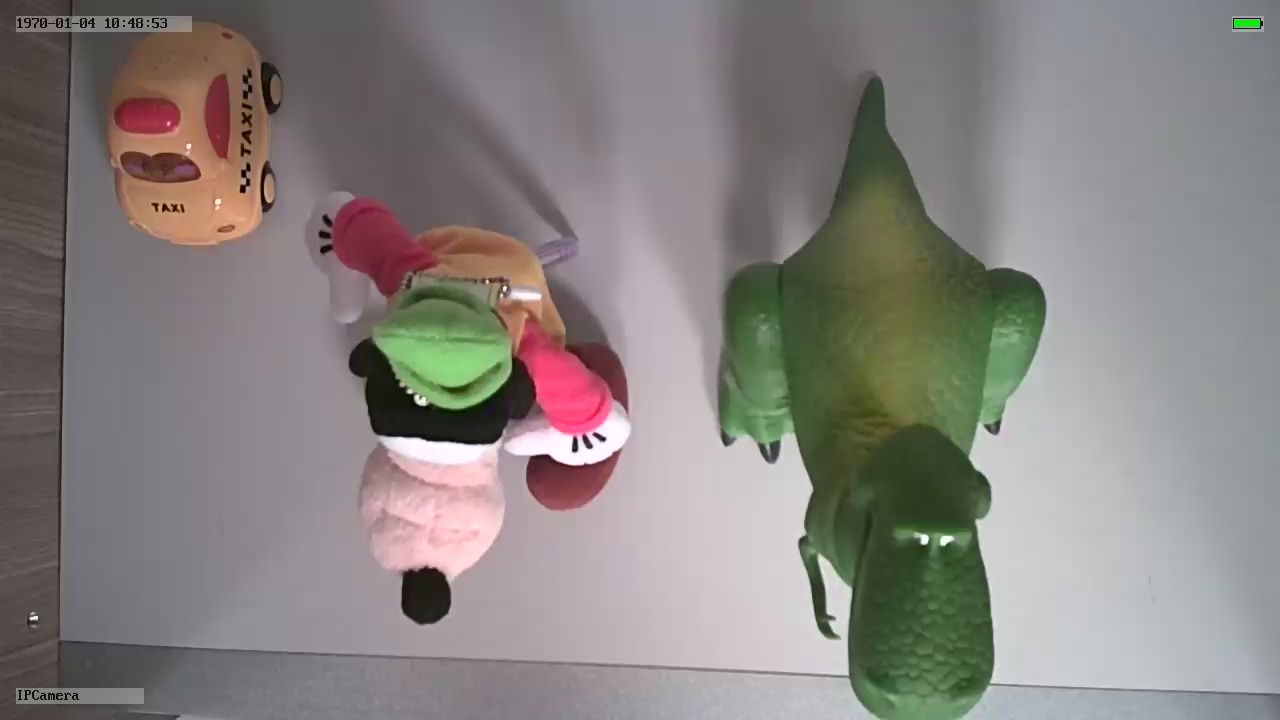car: (106, 20, 280, 249)
goofy: (302, 189, 635, 631)
rex: (716, 166, 1050, 720)
